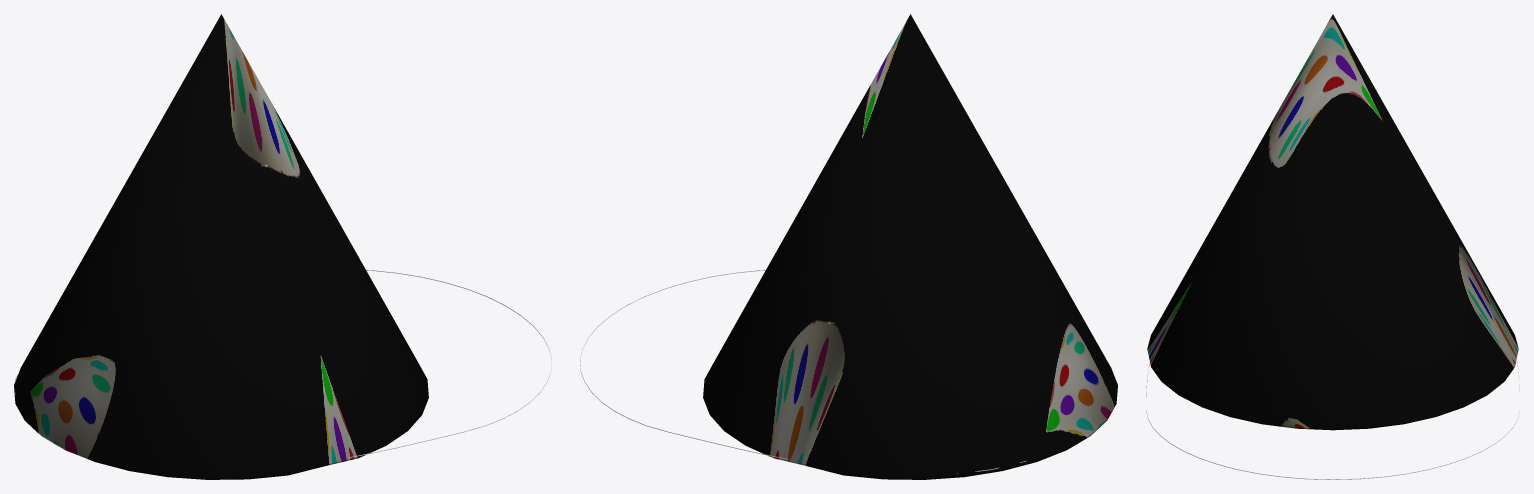
The model's file is hat.fbx.
3 renders of one model, left to right at view 1: azimuth 30°, elevation 25°; view 2: azimuth 150°, elevation 25°; view 3: azimuth 270°, elevation 25°, orthographic. The views are drawn at different scales.
Parts seen in each view (by area): view 1: Cone, BezierCircle; view 2: Cone, BezierCircle; view 3: Cone, BezierCircle.
Part boxes in pixels (x1=…): Cone: x1=14, y1=14, x2=428, y2=479; BezierCircle: x1=15, y1=270, x2=551, y2=457; Cone: x1=703, y1=14, x2=1117, y2=479; BezierCircle: x1=580, y1=270, x2=1025, y2=473; Cone: x1=1147, y1=14, x2=1518, y2=430; BezierCircle: x1=1146, y1=358, x2=1519, y2=479.
Size of the model in its own units: 267 by 201 by 201.
